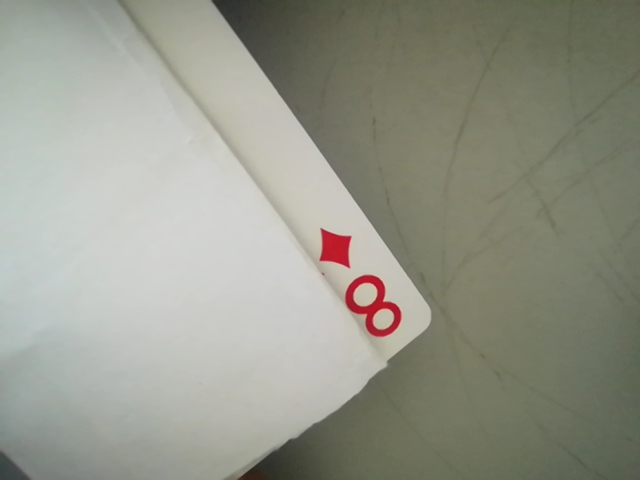fk 8: (313, 224, 416, 351)
